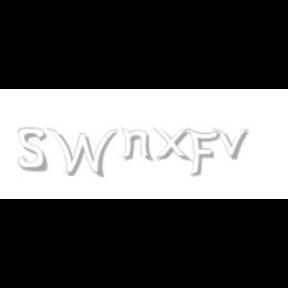F: (188, 128, 220, 178)
S: (17, 128, 48, 172)
W: (46, 128, 118, 178)
n: (120, 128, 154, 162)
v: (213, 128, 253, 160)
x: (153, 128, 195, 162)
